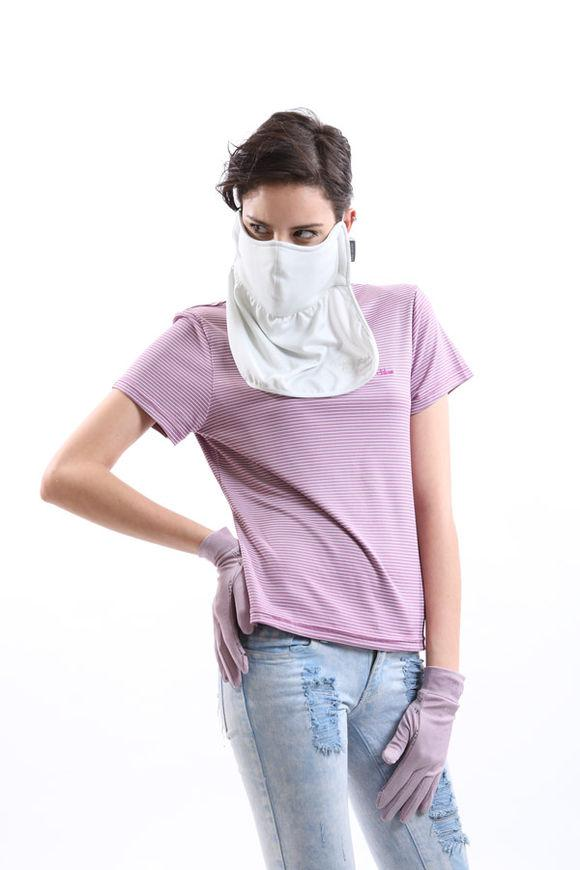OK: (238, 199, 342, 295)
